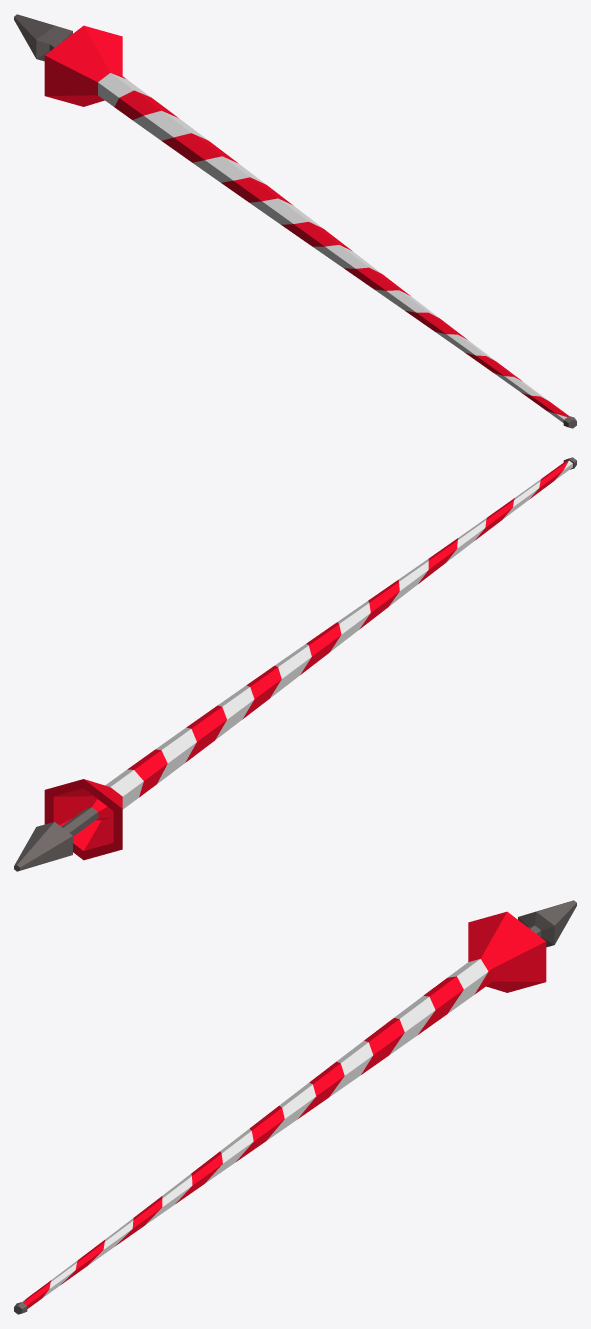
File: Lance.glb
3 views of the same model, one above another, from view 1: azimuth 30°, elevation 25°; view 2: azimuth 150°, elevation 25°; view 3: azimuth 330°, elevation 25° (orthographic).
Parts seen in each view (by area): view 1: Base, Spiral, Hilt; view 2: Base, Spiral, Hilt; view 3: Base, Spiral, Hilt.
Part boxes in pixels (x1,y1,x2,y2): Base: (44, 25, 568, 416); Spiral: (98, 73, 567, 422); Hilt: (14, 14, 576, 428); Base: (44, 460, 568, 860); Spiral: (105, 460, 572, 809); Hilt: (14, 457, 576, 871); Base: (23, 911, 546, 1308); Spiral: (22, 959, 488, 1302); Hilt: (14, 900, 576, 1314).
Size of the model in its own units: 0.2169 by 0.2169 by 2.68.
